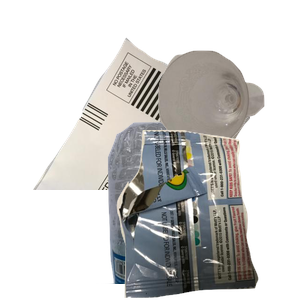glass: (156, 48, 300, 189)
paper: (31, 35, 271, 215)
plastic: (96, 120, 285, 300)
trash: (114, 130, 300, 300)
